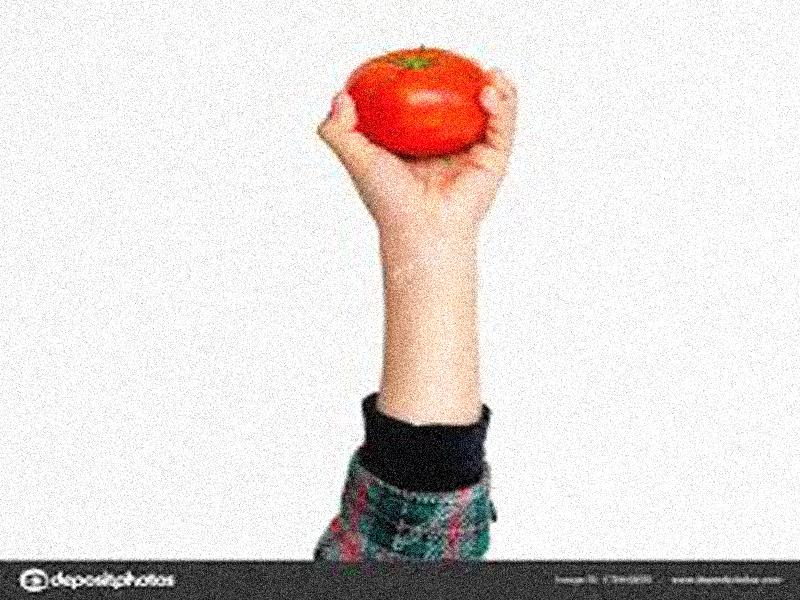Tomato: (345, 44, 493, 158)
